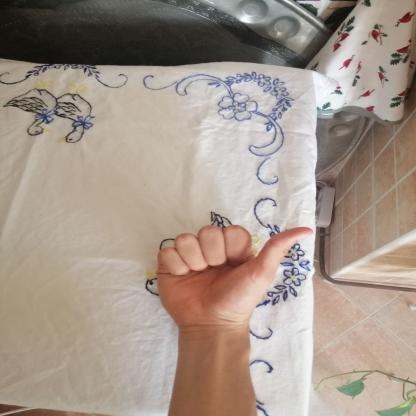DAD: (145, 216, 320, 338)
